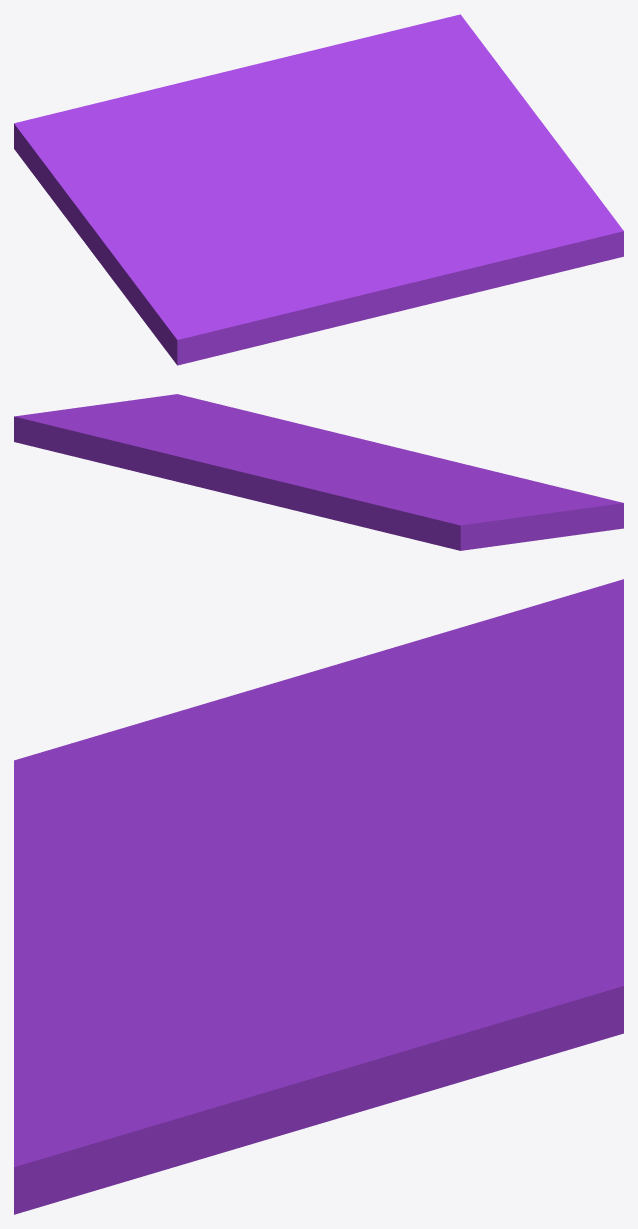
The model's file is Window_151_chunks.fbx.
3 views of the same model, one above another, from view 1: azimuth 30°, elevation 25°; view 2: azimuth 150°, elevation 25°; view 3: azimuth 270°, elevation 25° (orthographic). The views are drawn at different scales.
Visible parts, largest first — view 1: Window_151_2, Window_151_0, Window_151_3, Window_151_5, Window_151_1, Window_151_6; view 2: Window_151_0, Window_151_2, Window_151_3, Window_151_5, Window_151_1, Window_151_6; view 3: Window_151_2, Window_151_0, Window_151_3, Window_151_5, Window_151_6, Window_151_1.
Part boxes in pixels (x1=…): Window_151_2: x1=270, y1=14, x2=623, y2=269; Window_151_0: x1=14, y1=61, x2=320, y2=304; Window_151_3: x1=211, y1=214, x2=393, y2=331; Window_151_5: x1=368, y1=206, x2=580, y2=312; Window_151_1: x1=132, y1=245, x2=353, y2=365; Window_151_6: x1=272, y1=174, x2=441, y2=241; Window_151_0: x1=204, y1=459, x2=592, y2=550; Window_151_2: x1=14, y1=394, x2=313, y2=489; Window_151_3: x1=367, y1=452, x2=588, y2=494; Window_151_5: x1=220, y1=404, x2=415, y2=452; Window_151_1: x1=467, y1=484, x2=623, y2=534; Window_151_6: x1=271, y1=434, x2=398, y2=472; Window_151_2: x1=14, y1=812, x2=623, y2=1214; Window_151_0: x1=128, y1=579, x2=623, y2=874; Window_151_3: x1=14, y1=791, x2=257, y2=949; Window_151_5: x1=14, y1=928, x2=179, y2=1127; Window_151_6: x1=138, y1=834, x2=323, y2=992; Window_151_1: x1=14, y1=726, x2=206, y2=801.
Bounding box in the file's own units: 1838 × 482 × 1165.
